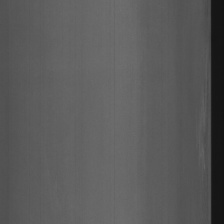silk_spot: (197, 59, 209, 179)
